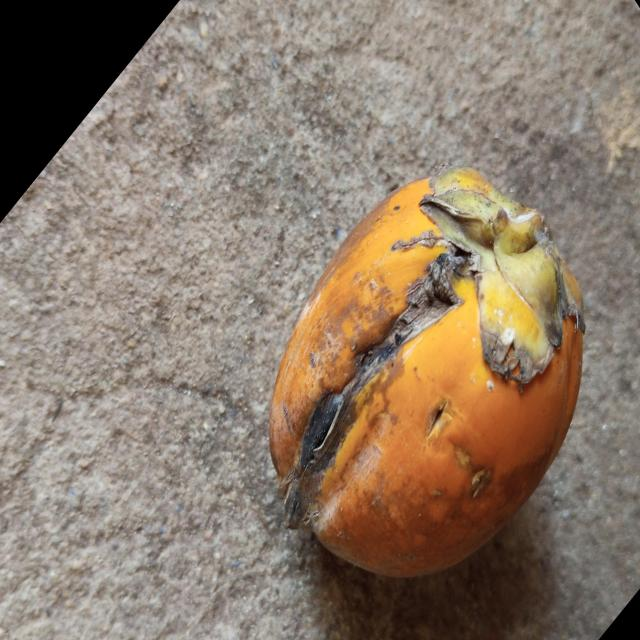damaged: (267, 169, 585, 580)
